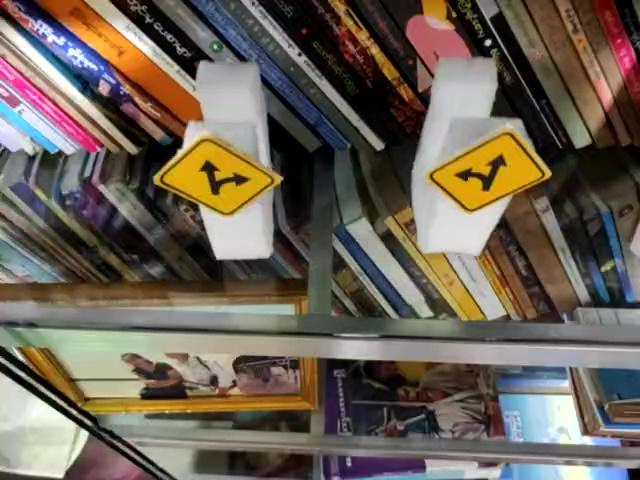Straight Or Left Sign: (428, 129, 549, 213)
Straight Or Right Sign: (155, 134, 282, 219)
